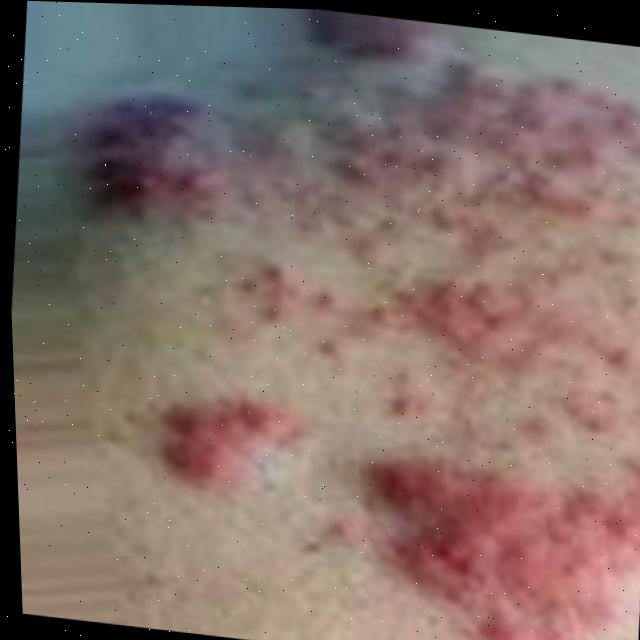Shingles: (52, 4, 640, 640)
